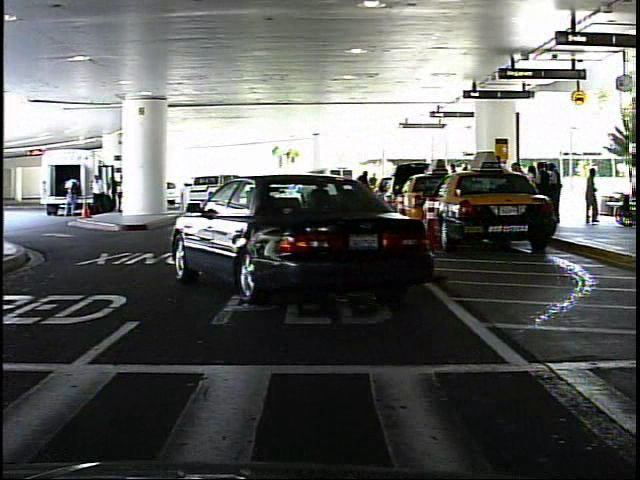person: (356, 165, 380, 220), (583, 163, 602, 227)
